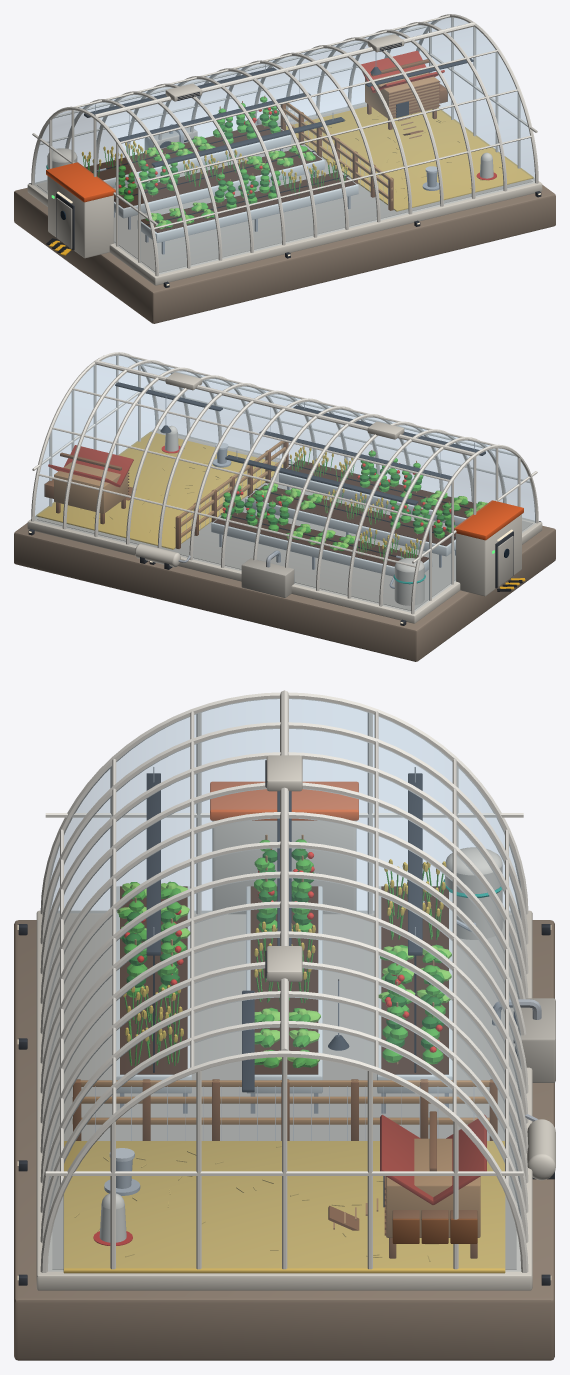
File: greenhouse.glb
3 renders of one model, top to bottom at view 1: azimuth 30°, elevation 25°; view 2: azimuth 150°, elevation 25°; view 3: azimuth 270°, elevation 25°, orthographic. The views are drawn at different scales.
Visible parts, largest first — view 1: greenhouse; view 2: greenhouse; view 3: greenhouse.
Part boxes in pixels (bbox=[...]): greenhouse: bbox=[14, 14, 555, 323]; greenhouse: bbox=[14, 352, 555, 661]; greenhouse: bbox=[14, 690, 555, 1360].
Bounding box in the file's own units: 10.76 × 3.78 × 6.01.
